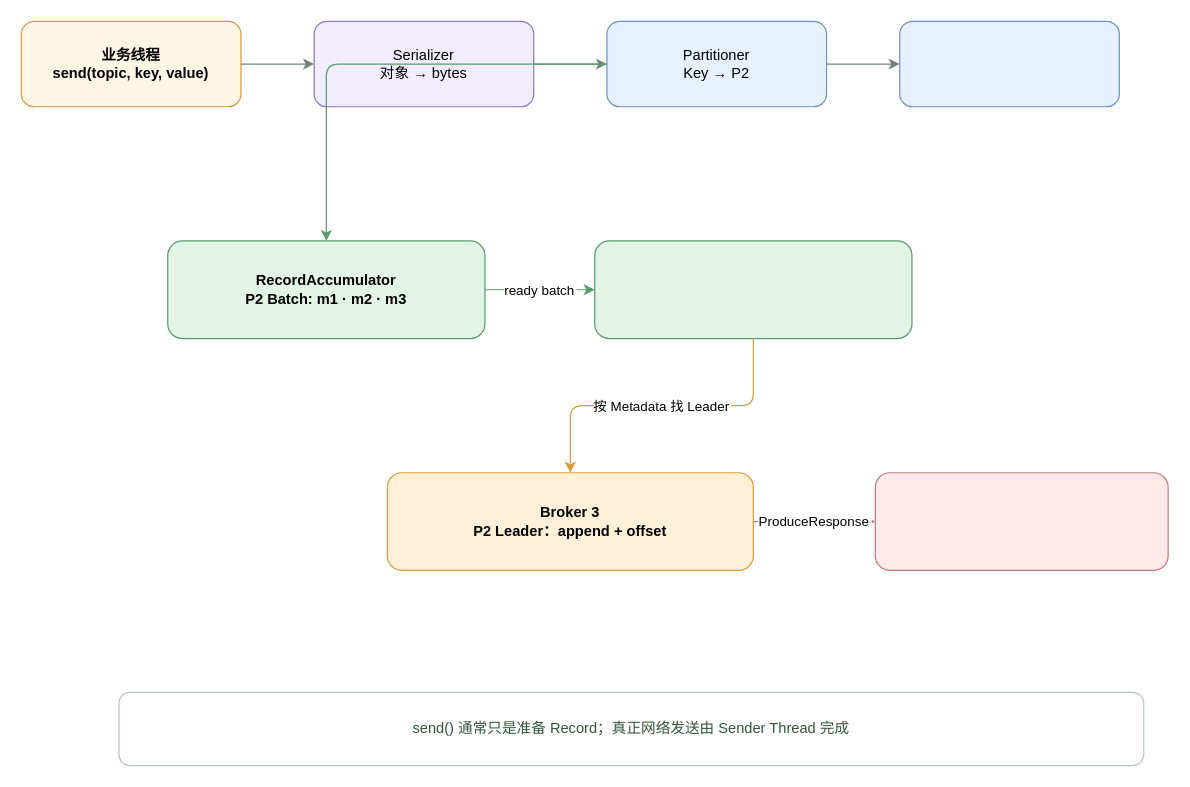
The diagram is 1190 pixels wide and 787 high, and some of its shapes have lost their labels. Here are the shapes that lost their labels. From the top down, the centre of each, then its label:
At (1009,63): "Metadata P2 Leader = B3".
At (753,289): "Sender Thread Batch → ProduceRequest".
At (1021,521): "ACK / Retry Future 或 Callback 完成".
